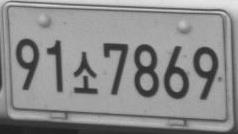1: (44, 39, 70, 92)
6: (163, 45, 189, 99)
7: (102, 42, 129, 95)
8: (133, 43, 159, 97)
9: (192, 45, 218, 99), (15, 37, 41, 90)
소: (73, 50, 97, 93)
